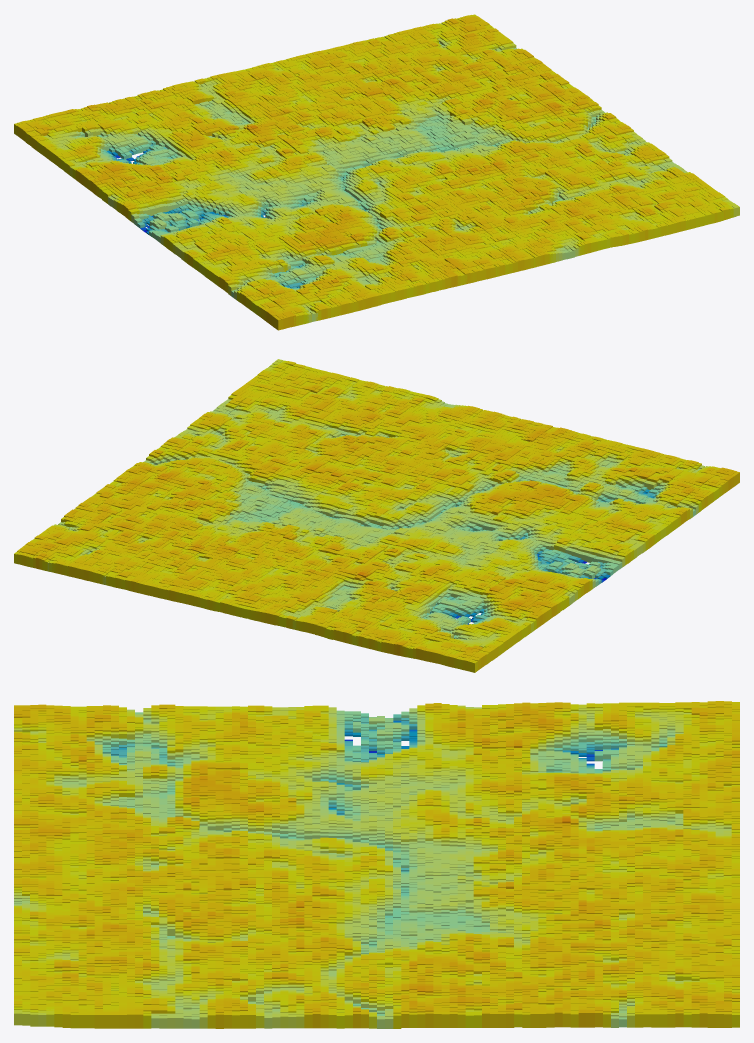
Rendered from population.glb.
3 views of the same model, one above another, from view 1: azimuth 30°, elevation 25°; view 2: azimuth 150°, elevation 25°; view 3: azimuth 270°, elevation 25° (orthographic). The views are drawn at different scales.
Parts seen in each view (by area): view 1: population; view 2: population; view 3: population.
Boxes of the visible parts, box(x1,y1,x2,y2) form: population: box(14, 14, 739, 330); population: box(14, 359, 739, 672); population: box(14, 701, 739, 1028).
Size of the model in its own units: 9064 by 262 by 8997.
